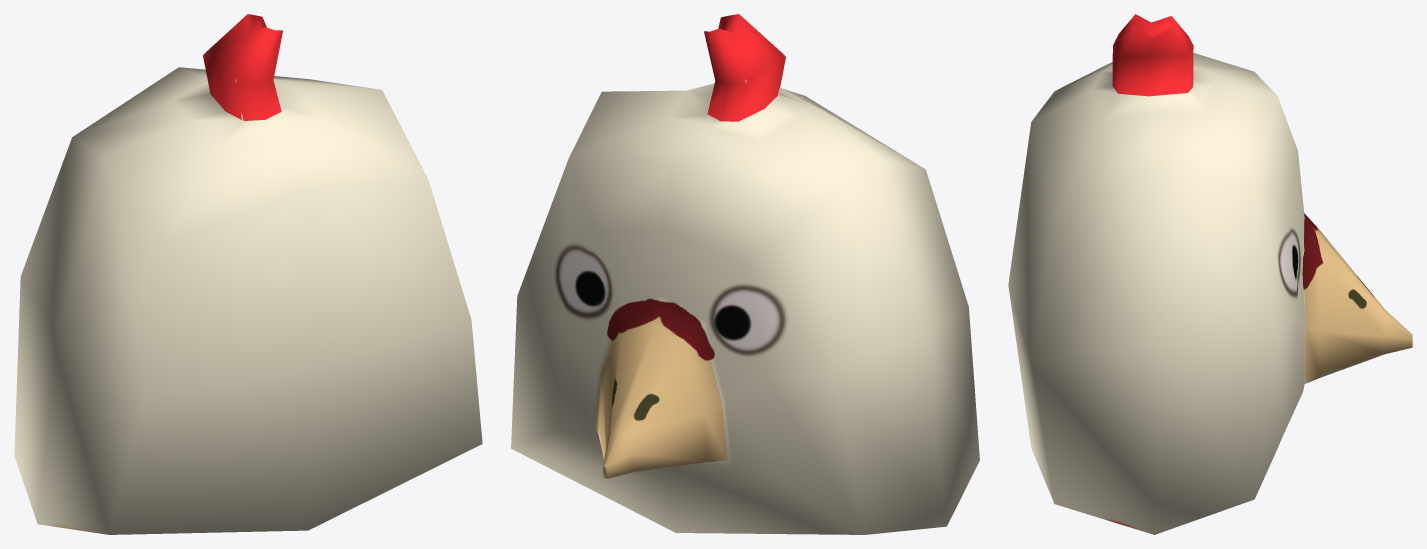
Rendered from chickenHead.glb.
The picture shows the model from 3 angles, left to right: view 1: azimuth 30°, elevation 25°; view 2: azimuth 150°, elevation 25°; view 3: azimuth 270°, elevation 25°; orthographic projection. The views are drawn at different scales.
Parts seen in each view (by area): view 1: Cube.001; view 2: Cube.001; view 3: Cube.001.
Boxes of the visible parts, x1,y1,x2,y2 form: Cube.001: (14,14,482,534); Cube.001: (511,14,979,534); Cube.001: (1008,14,1412,534).
Bounding box in the file's own units: 0.191 × 0.2166 × 0.1703.
1 material, 1 textured.
